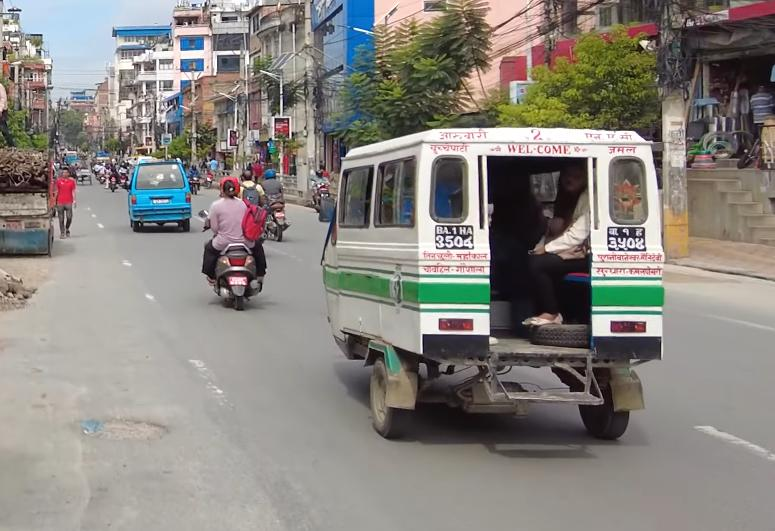scooter: (200, 203, 267, 308)
tempo: (315, 122, 669, 445)
van: (124, 152, 196, 235)
